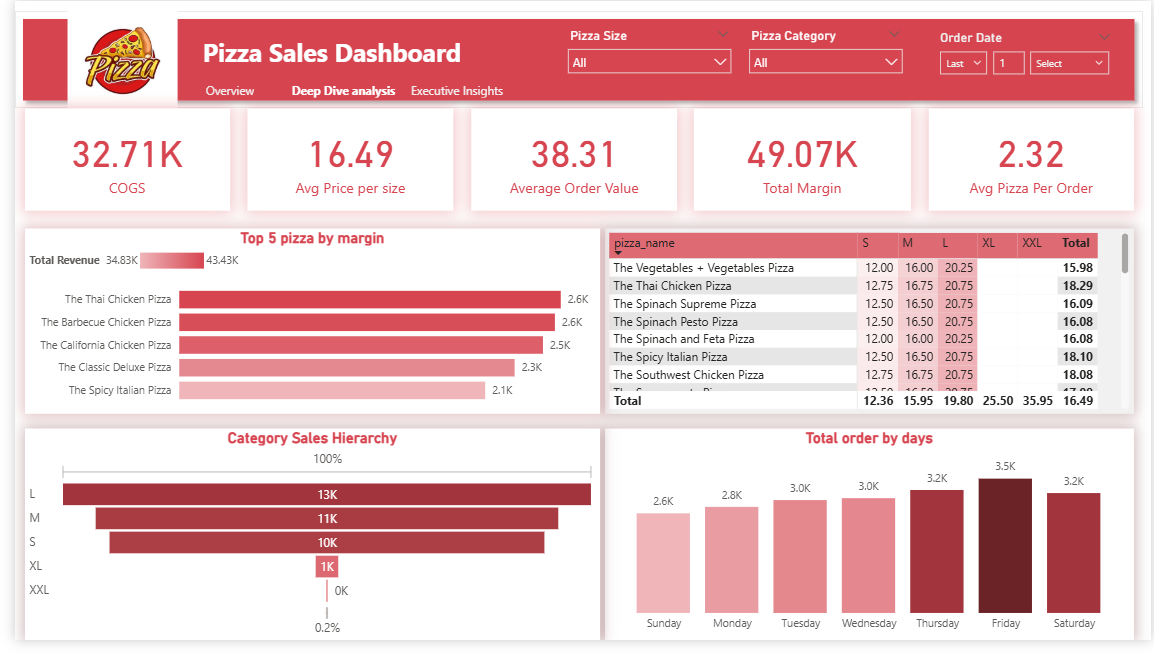

What the dashboard file says about the page in this screenshot:
{"tool":"powerbi","page":{"name":"Deep Dive analysis ","canvas":[1280,720],"ordinal":1},"visuals":[{"type":"shape","box":[0,11.3,1270.4,109.9],"z":0},{"type":"image","box":[0,0,242.3,133.8],"z":1000},{"type":"shape","box":[183.1,0,347.9,114.1],"z":2000},{"type":"card","fields":{"Values":["_measures.GOGS"]},"box":[11.3,121.1,231,115.5],"z":3000},{"type":"card","fields":{"Values":["_measures.Avg Price per size"]},"box":[261.6,121.1,232.4,115.5],"z":4000},{"type":"card","fields":{"Values":["_measures.Average Order Value"]},"box":[513.4,121.1,232.4,115.5],"z":5000},{"type":"card","fields":{"Values":["_measures.Total Margin"]},"box":[765.1,121.1,245.1,115.5],"z":6000},{"type":"card","fields":{"Values":["_measures.Avg Pizza Per Order"]},"box":[1029.6,121.1,231,115.5],"z":7000},{"type":"clusteredColumnChart","title":"Total order by days","fields":{"Category":["pizza_sales.days"],"Y":["_measures.Total Orders"]},"box":[664.8,481.7,595.8,238],"z":9000},{"type":"slicer","fields":{"Values":["pizza_sales.pizza_category"]},"box":[816.9,25.4,193,64.8],"z":10000},{"type":"slicer","fields":{"Values":["pizza_sales.pizza_size"]},"box":[612.7,25.4,204.2,64.8],"z":11000},{"type":"pivotTable","title":"MOM% by Month","fields":{"Values":["_measures.Avg Price per size"],"Columns":["Size Mapping.SIZE NAME"],"Rows":["pizza_sales.pizza_name"]},"box":[664.8,256.3,595.8,208.5],"z":12000},{"type":"slicer","fields":{"Values":["pizza_sales.order_date"]},"box":[1029.6,28.2,216.9,59.2],"z":13000},{"type":"pageNavigator","box":[183.1,87.3,376.1,26.8],"z":14000},{"type":"clusteredBarChart","title":"Top 5 pizza by margin","fields":{"Y":["_measures.Total Margin"],"Category":["pizza_sales.pizza_name"]},"box":[11.3,256.3,647.9,208.5],"z":15000},{"type":"funnel","title":"Category Sales Hierarchy","fields":{"Y":["_measures.Total Orders"],"Category":["pizza_sales.pizza_size"]},"box":[11.3,481.7,647.9,238],"z":16000}]}

Visuals, with their boxes in screenshot pixels (x1, y1, x2, y2), scaled from the page's 1280x720 canvas onto the 1154x658 screenshot:
shape: region(0, 10, 1145, 111)
image: region(0, 0, 218, 122)
shape: region(165, 0, 479, 104)
card - _measures.GOGS: region(10, 111, 218, 216)
card - _measures.Avg Price per size: region(236, 111, 445, 216)
card - _measures.Average Order Value: region(463, 111, 672, 216)
card - _measures.Total Margin: region(690, 111, 911, 216)
card - _measures.Avg Pizza Per Order: region(928, 111, 1137, 216)
"Total order by days" clusteredColumnChart: region(599, 440, 1137, 657)
slicer - pizza_sales.pizza_category: region(736, 23, 910, 82)
slicer - pizza_sales.pizza_size: region(552, 23, 736, 82)
"MOM% by Month" pivotTable: region(599, 234, 1137, 425)
slicer - pizza_sales.order_date: region(928, 26, 1124, 80)
pageNavigator: region(165, 80, 504, 104)
"Top 5 pizza by margin" clusteredBarChart: region(10, 234, 594, 425)
"Category Sales Hierarchy" funnel: region(10, 440, 594, 657)
